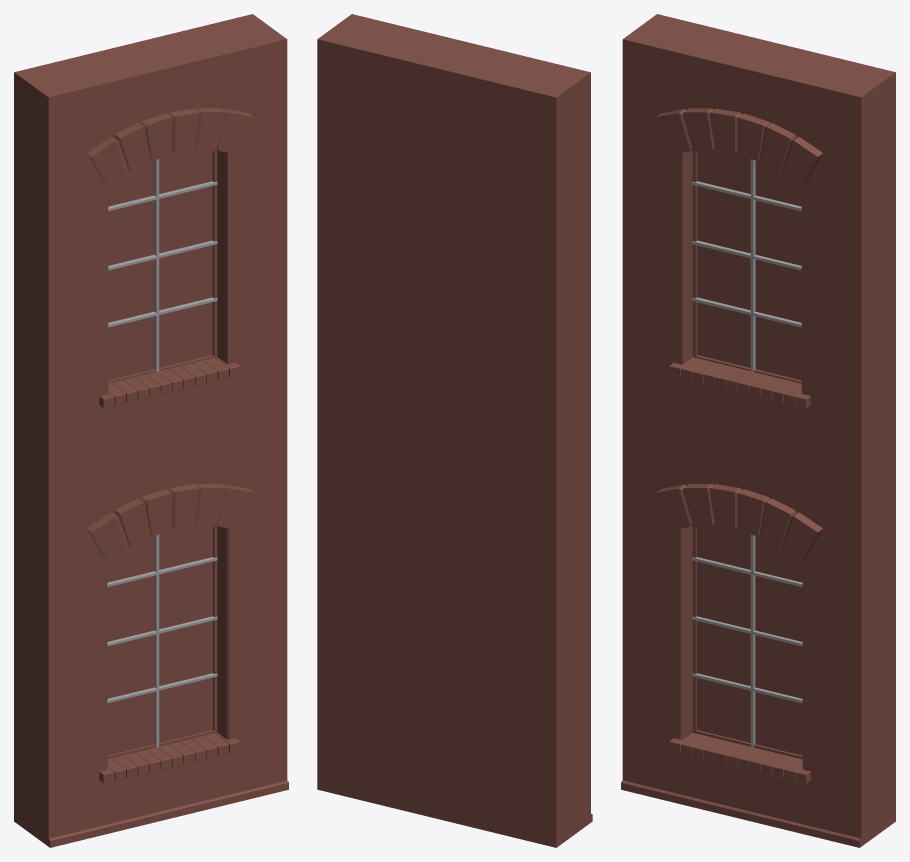
Rendered from Fabrik_Wand_Fenster.fbx.
3 renders of one model, left to right at view 1: azimuth 30°, elevation 25°; view 2: azimuth 150°, elevation 25°; view 3: azimuth 330°, elevation 25°, orthographic.
Parts seen in each view (by area): view 1: pCube2, pPipe1 (×2), pCube8 (×2), pCube4 (×2), pCube5 (×2), pCube6 (×2), pCube7 (×2); view 2: pCube2; view 3: pCube2, pPipe1 (×2), pCube8 (×2), pCube4 (×2), pCube5 (×2), pCube6 (×2), pCube7 (×2).
Boxes of the visible parts, x1,y1,x2,y2 form: pCube2: [14, 14, 288, 847]; pPipe1 (×2): [87, 108, 254, 561]; pCube8 (×2): [99, 357, 240, 783]; pCube4 (×2): [154, 159, 159, 747]; pCube5 (×2): [107, 297, 217, 703]; pCube6 (×2): [107, 240, 217, 646]; pCube7 (×2): [107, 181, 217, 587]; pCube2: [317, 14, 592, 847]; pCube2: [621, 14, 895, 847]; pPipe1 (×2): [655, 108, 822, 561]; pCube8 (×2): [669, 357, 810, 783]; pCube4 (×2): [750, 159, 755, 747]; pCube5 (×2): [692, 297, 802, 703]; pCube6 (×2): [692, 240, 802, 646]; pCube7 (×2): [692, 181, 802, 587].
Size of the model in its own units: 4 by 12 by 1.16.
